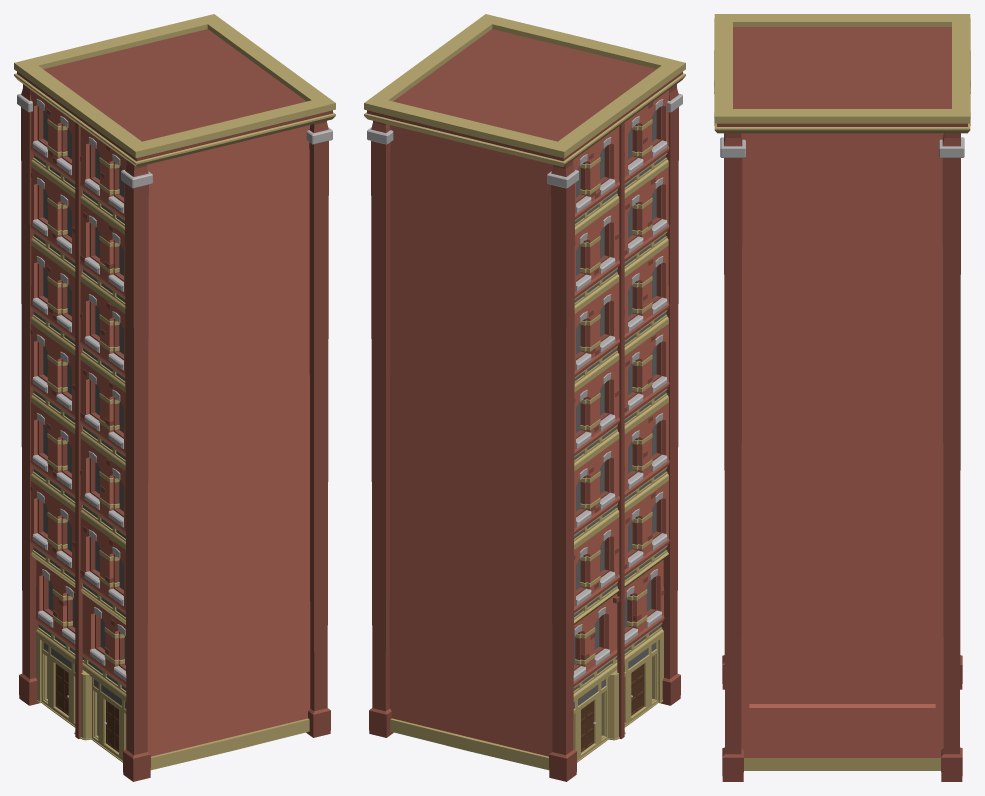
Rendered from House1.fbx.
3 renders of one model, left to right at view 1: azimuth 30°, elevation 25°; view 2: azimuth 150°, elevation 25°; view 3: azimuth 270°, elevation 25°, orthographic. The views are drawn at different scales.
Visible parts, largest first — view 1: House_1; view 2: House_1; view 3: House_1.
Part boxes in pixels (x1,y1,x2,y2): House_1: (14, 14, 335, 781); House_1: (364, 14, 685, 781); House_1: (714, 14, 970, 781).
Bounding box in the file's own units: 6.7 × 20.16 × 7.05.
